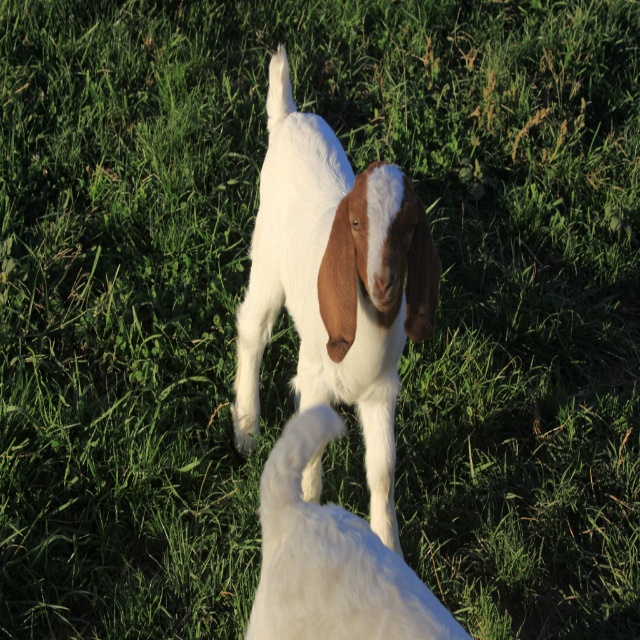Goat: (227, 77, 446, 624)
